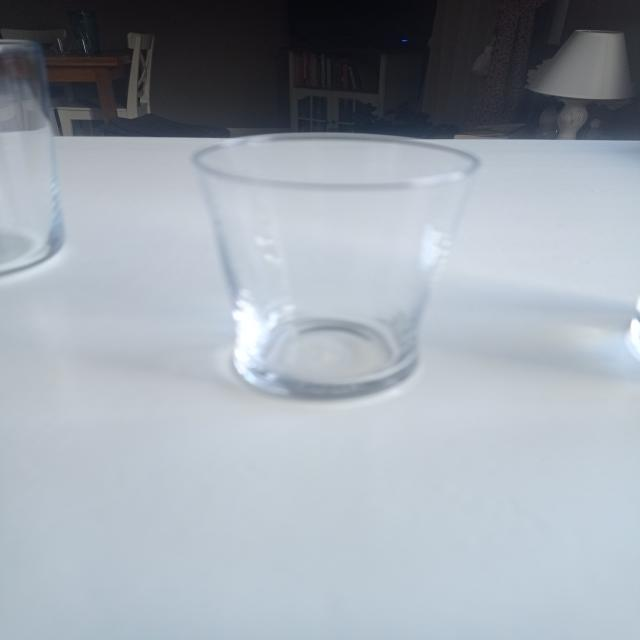Dry: (185, 135, 498, 403)
